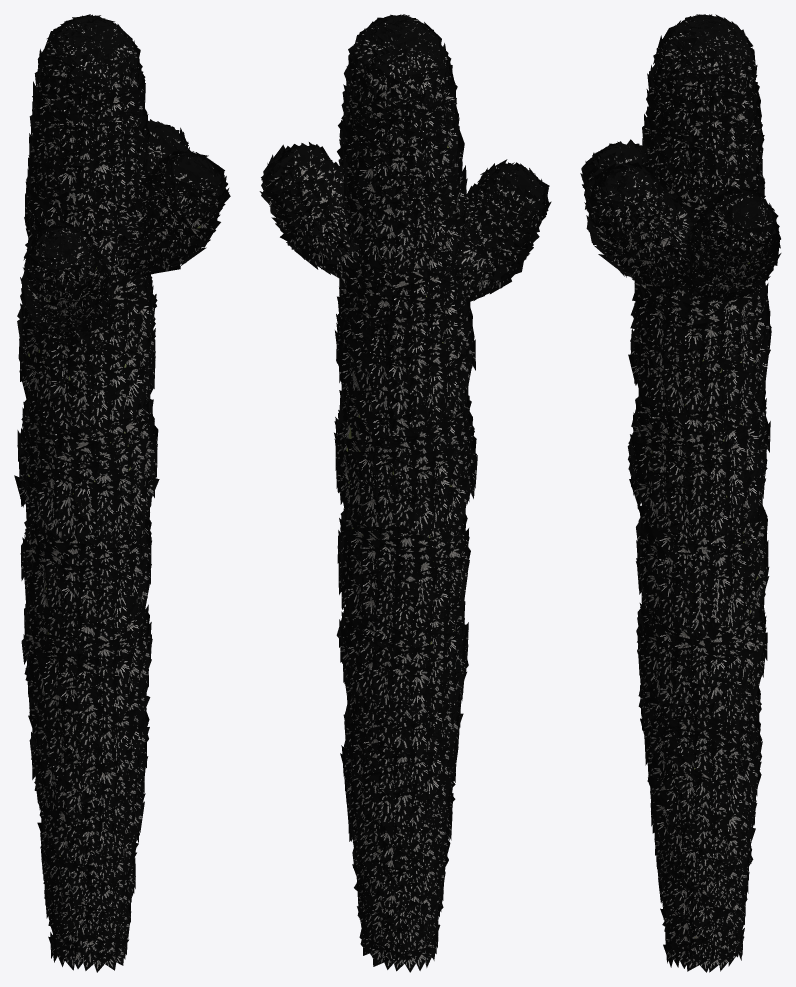
Rendered from p_saguaro_a.glb.
The picture shows the model from 3 angles, left to right: view 1: azimuth 30°, elevation 25°; view 2: azimuth 150°, elevation 25°; view 3: azimuth 270°, elevation 25°; orthographic projection.
Parts seen in each view (by area): view 1: Carnegiea_gigantea_HD; view 2: Carnegiea_gigantea_HD; view 3: Carnegiea_gigantea_HD.
Part boxes in pixels (x1,y1,x2,y2): Carnegiea_gigantea_HD: [14, 14, 230, 972]; Carnegiea_gigantea_HD: [259, 14, 551, 972]; Carnegiea_gigantea_HD: [580, 14, 781, 972].
Size of the model in its own units: 0.7171 by 2.9 by 0.5598.
Materials: 3 (3 with a texture image).
